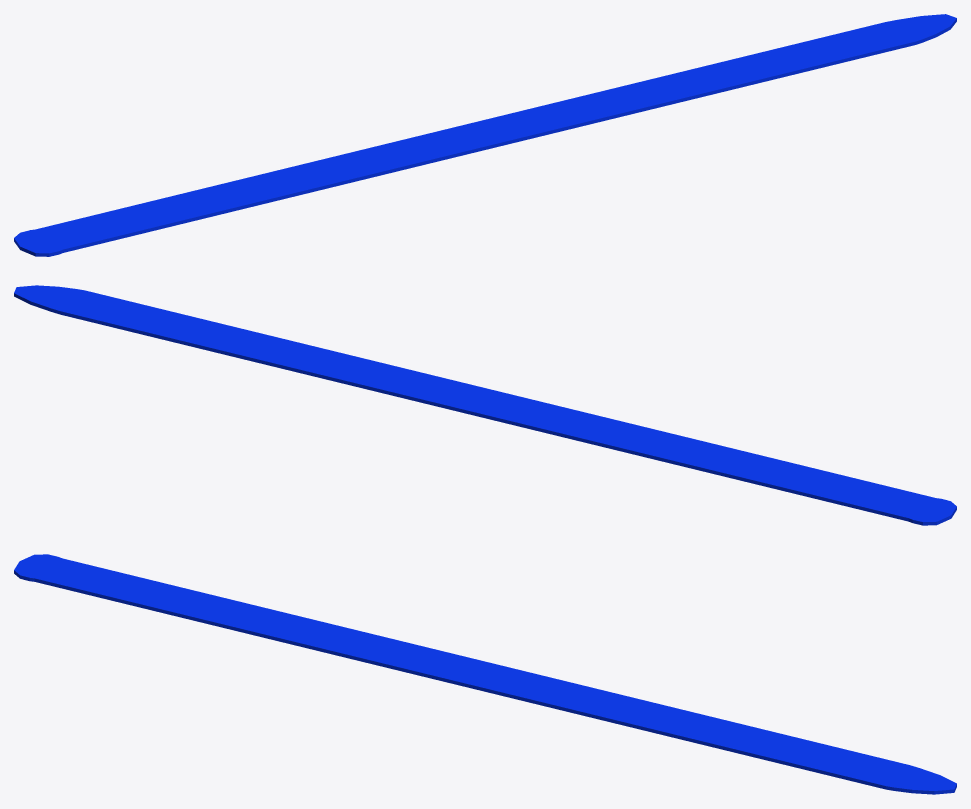
Rendered from ski ita.fbx.
The picture shows the model from 3 angles, top to bottom: view 1: azimuth 30°, elevation 25°; view 2: azimuth 150°, elevation 25°; view 3: azimuth 330°, elevation 25°; orthographic projection.
Parts seen in each view (by area): view 1: Extruded Closed Line_ncl1_1, Extruded Closed Line_ncl1_2; view 2: Extruded Closed Line_ncl1_1, Extruded Closed Line_ncl1_2; view 3: Extruded Closed Line_ncl1_1, Extruded Closed Line_ncl1_2.
Boxes of the visible parts, x1,y1,x2,y2 form: Extruded Closed Line_ncl1_1: (14, 14, 956, 253); Extruded Closed Line_ncl1_2: (14, 18, 956, 256); Extruded Closed Line_ncl1_1: (14, 285, 956, 521); Extruded Closed Line_ncl1_2: (14, 293, 956, 525); Extruded Closed Line_ncl1_1: (14, 554, 956, 790); Extruded Closed Line_ncl1_2: (14, 570, 956, 794).
Bounding box in the file's own units: 247 × 0.875 × 13.14.
